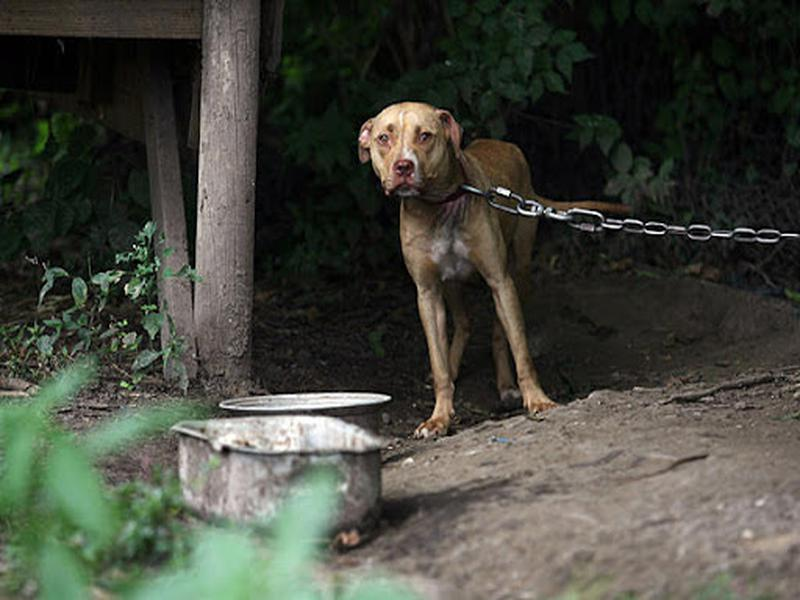dog_stand: (356, 93, 570, 442)
